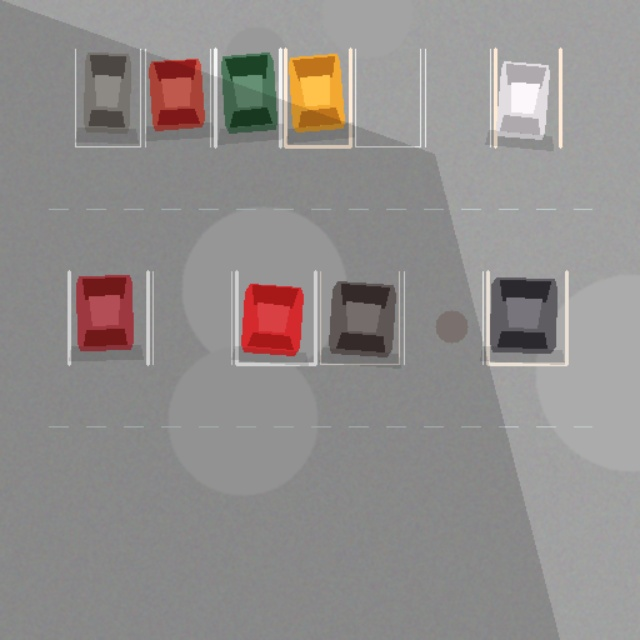space-empty: (404, 271, 483, 364), (153, 271, 231, 364), (355, 49, 420, 146), (425, 49, 490, 146)
space-occupied: (236, 271, 315, 364), (320, 271, 399, 364), (487, 271, 566, 364), (69, 271, 147, 364), (75, 49, 140, 146), (145, 49, 210, 146), (215, 49, 280, 146), (285, 49, 350, 146), (495, 49, 560, 146)
